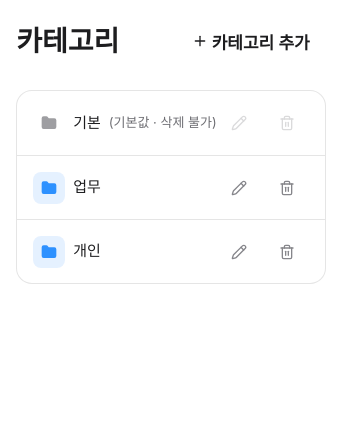
Test: CategoriesPage › 카테고리 추가 성공 시 폼이 닫힌다
Click the button "카테고리 추가" at (251, 41), box [176,16,326,66]
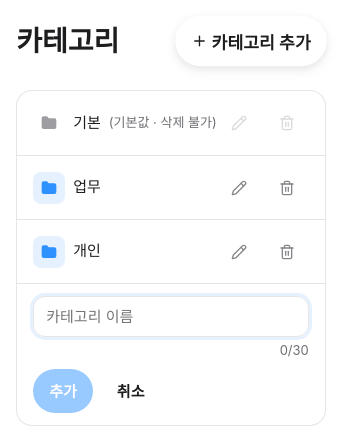
Type "취미" into the field at (171, 316), box [33,296,309,337]
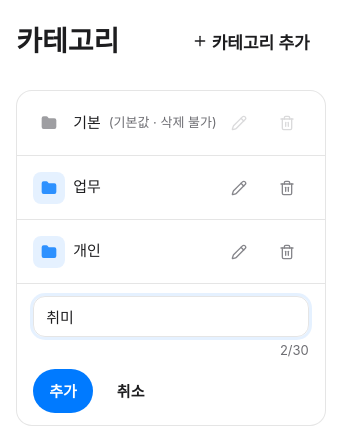
Click the button "추가" at (63, 390), box [33,368,93,412]
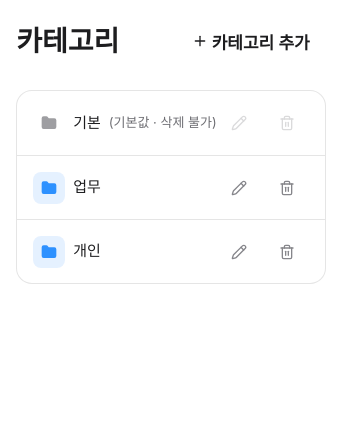
Expected: the field is gone
